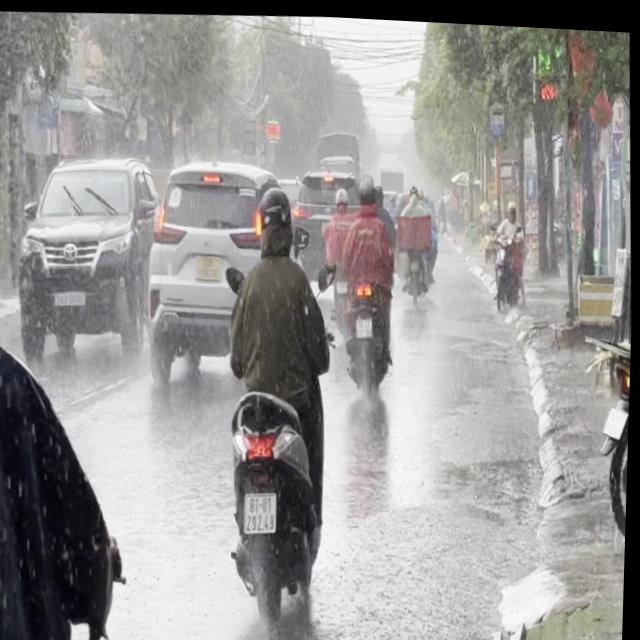helmet: (254, 180, 297, 254), (357, 167, 378, 204)
licenseplate: (210, 172, 349, 638), (589, 155, 637, 544)
nohelmet: (245, 488, 279, 529), (603, 399, 630, 431)
